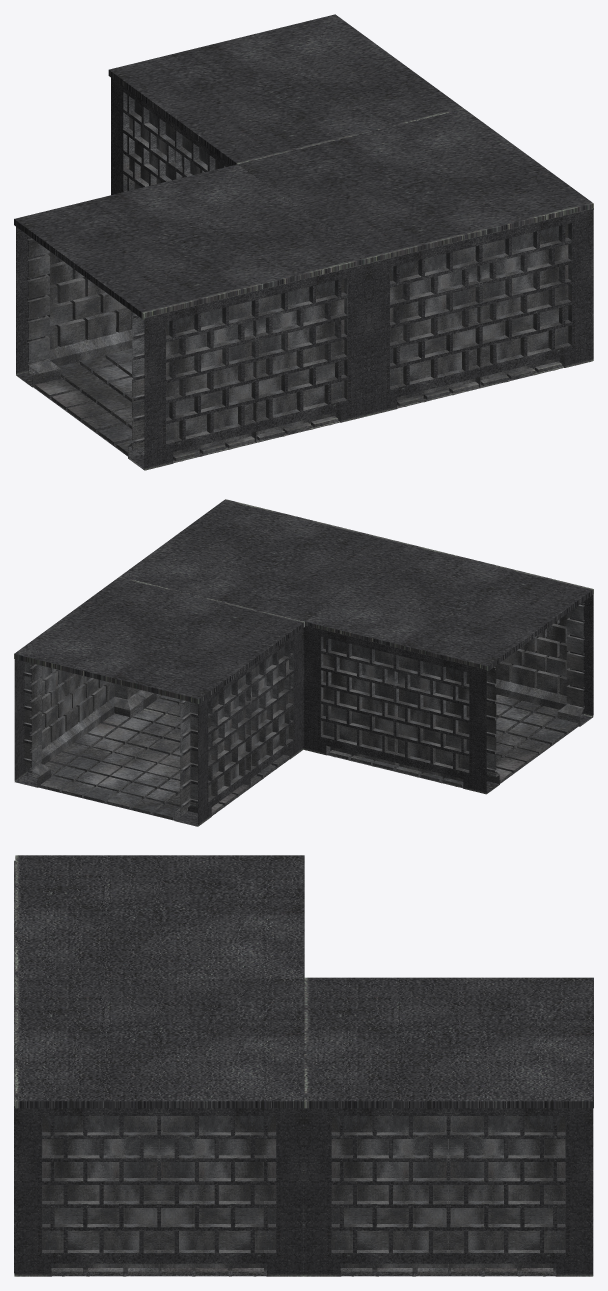
File: level4NEW(L).obj
3 renders of one model, top to bottom at view 1: azimuth 30°, elevation 25°; view 2: azimuth 150°, elevation 25°; view 3: azimuth 270°, elevation 25°, orthographic. The views are drawn at different scales.
Parts seen in each view (by area): view 1: Plane.116_Plane.242, Plane.115_Plane.241, Plane.117_Plane.243, Plane.072_Plane.188, Plane.035_Plane.172, Plane.036_Plane.173, Plane.073_Plane.189, Plane.040_Plane.177, Plane.046_Plane.183, Plane.070_Plane.186, Cube.183_Cube.300, Cube.191_Cube.308 (+2 smaller); view 2: Plane.117_Plane.243, Plane.116_Plane.242, Plane.115_Plane.241, Plane.069_Plane.185, Plane.039_Plane.176, Plane.040_Plane.177, Plane.041_Plane.178, Plane.070_Plane.186, Plane.072_Plane.188, Plane.046_Plane.183, Plane.071_Plane.187, Cube.192_Cube.309 (+6 smaller); view 3: Plane.117_Plane.243, Plane.115_Plane.241, Plane.116_Plane.242, Plane.075_Plane.191, Plane.074_Plane.190, Plane.042_Plane.179, Plane.071_Plane.187, Plane.069_Plane.185, Plane.045_Plane.182.
Part boxes in pixels (left/top/right/bottom): Plane.116_Plane.242: left=14, top=164, right=369, bottom=319; Plane.115_Plane.241: left=238, top=109, right=593, bottom=262; Plane.117_Plane.243: left=108, top=14, right=463, bottom=165; Plane.072_Plane.188: left=144, top=290, right=256, bottom=470; Plane.035_Plane.172: left=480, top=208, right=592, bottom=387; Plane.036_Plane.173: left=368, top=236, right=480, bottom=415; Plane.073_Plane.189: left=256, top=263, right=368, bottom=442; Plane.040_Plane.177: left=16, top=227, right=131, bottom=387; Plane.046_Plane.183: left=17, top=348, right=339, bottom=468; Plane.070_Plane.186: left=111, top=78, right=181, bottom=194; Cube.183_Cube.300: left=27, top=236, right=60, bottom=386; Cube.191_Cube.308: left=128, top=312, right=163, bottom=470; Plane.117_Plane.243: left=14, top=576, right=304, bottom=703; Plane.116_Plane.242: left=305, top=544, right=593, bottom=671; Plane.115_Plane.241: left=120, top=499, right=409, bottom=621; Plane.069_Plane.185: left=15, top=708, right=289, bottom=826; Plane.039_Plane.176: left=303, top=625, right=395, bottom=771; Plane.040_Plane.177: left=395, top=647, right=499, bottom=794; Plane.041_Plane.178: left=244, top=628, right=303, bottom=785; Plane.070_Plane.186: left=186, top=666, right=251, bottom=826; Plane.072_Plane.188: left=497, top=594, right=593, bottom=726; Plane.046_Plane.183: left=327, top=694, right=591, bottom=793; Plane.071_Plane.187: left=14, top=659, right=89, bottom=781; Cube.192_Cube.309: left=15, top=661, right=50, bottom=787; Plane.117_Plane.243: left=304, top=977, right=593, bottom=1108; Plane.115_Plane.241: left=15, top=978, right=304, bottom=1108; Plane.116_Plane.242: left=15, top=855, right=304, bottom=978; Plane.075_Plane.191: left=14, top=1106, right=159, bottom=1276; Plane.074_Plane.190: left=159, top=1108, right=303, bottom=1276; Plane.042_Plane.179: left=304, top=1108, right=448, bottom=1276; Plane.071_Plane.187: left=448, top=1108, right=592, bottom=1276; Plane.069_Plane.185: left=340, top=1261, right=593, bottom=1275; Plane.045_Plane.182: left=51, top=1261, right=303, bottom=1275.
Bounding box in the file's own units: 16.1 × 5.36 × 16.03.
